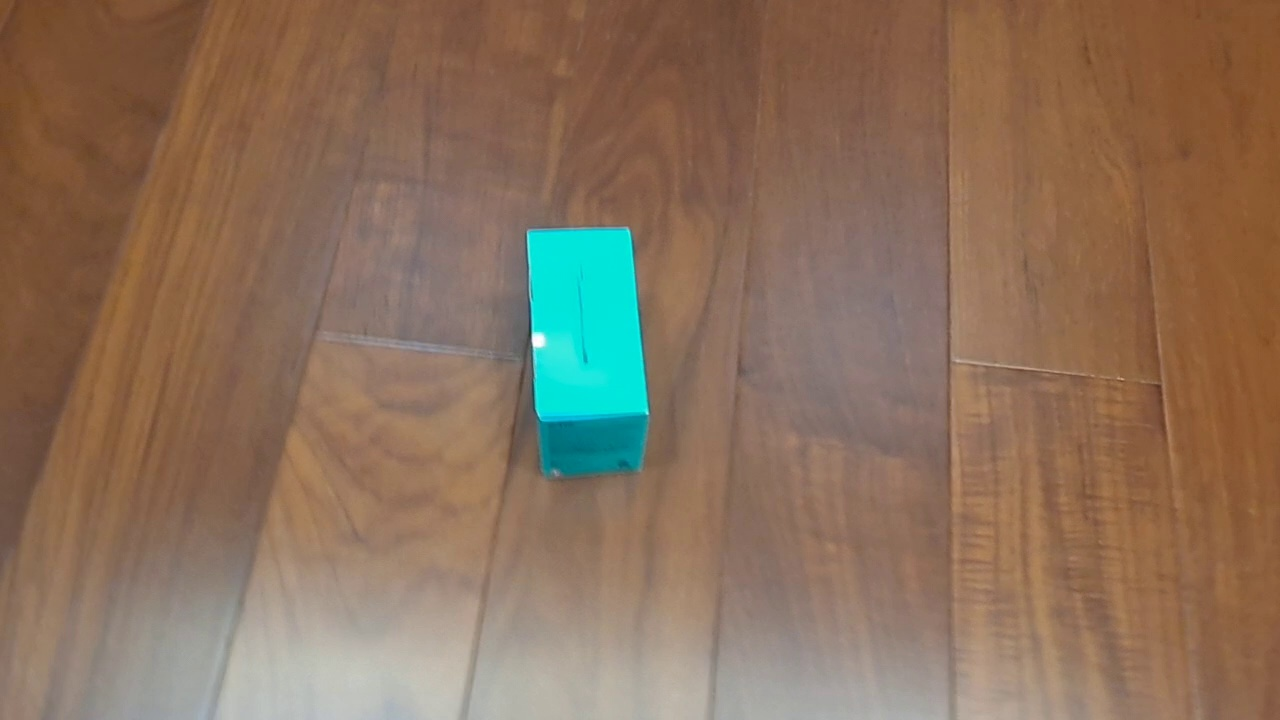webcam: (525, 226, 651, 481)
